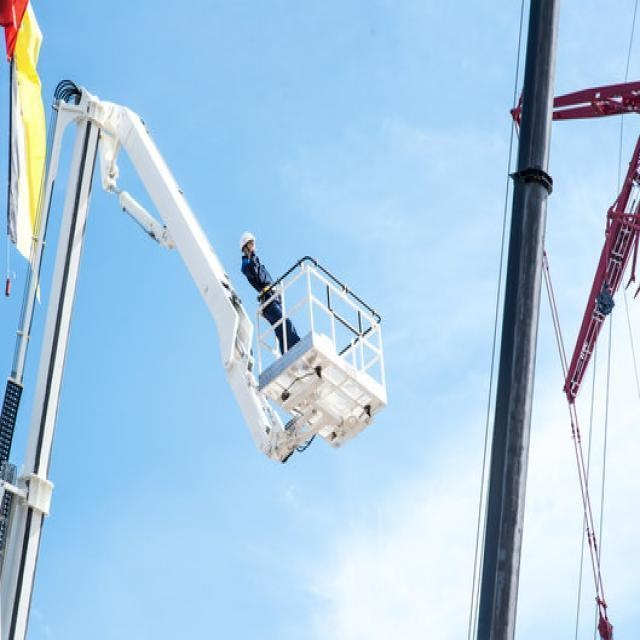Arnes_seguridad: (256, 285, 282, 298)
